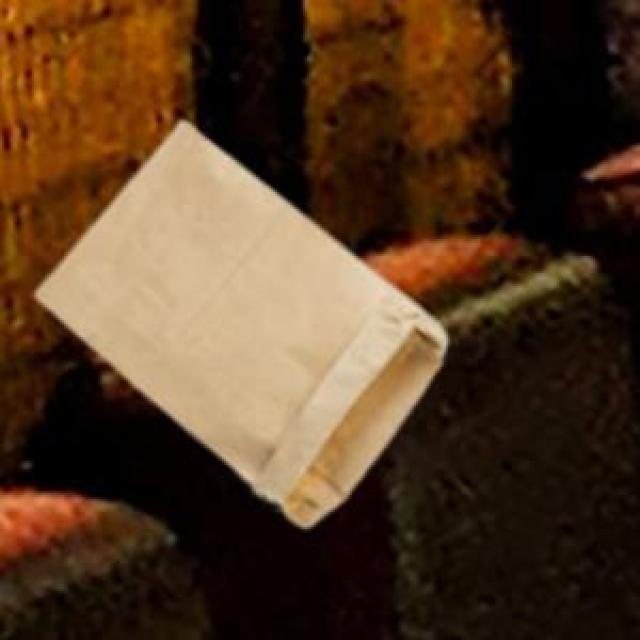paper: (32, 117, 442, 523)
